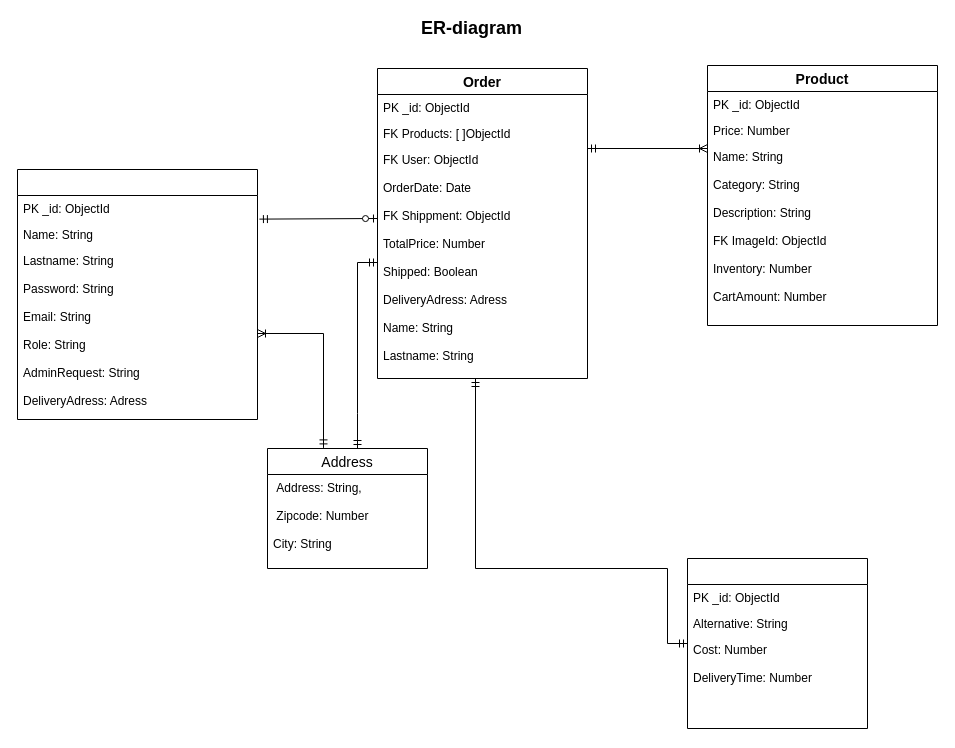
This 955x748 diagram has some shape labels left out. The shapes that lost their labels are listed below. From the top down, each one's box as (x1, y1, x2, y2) in pixels, then its label:
(16, 168, 258, 420): Users
(686, 558, 868, 728): Shipment
